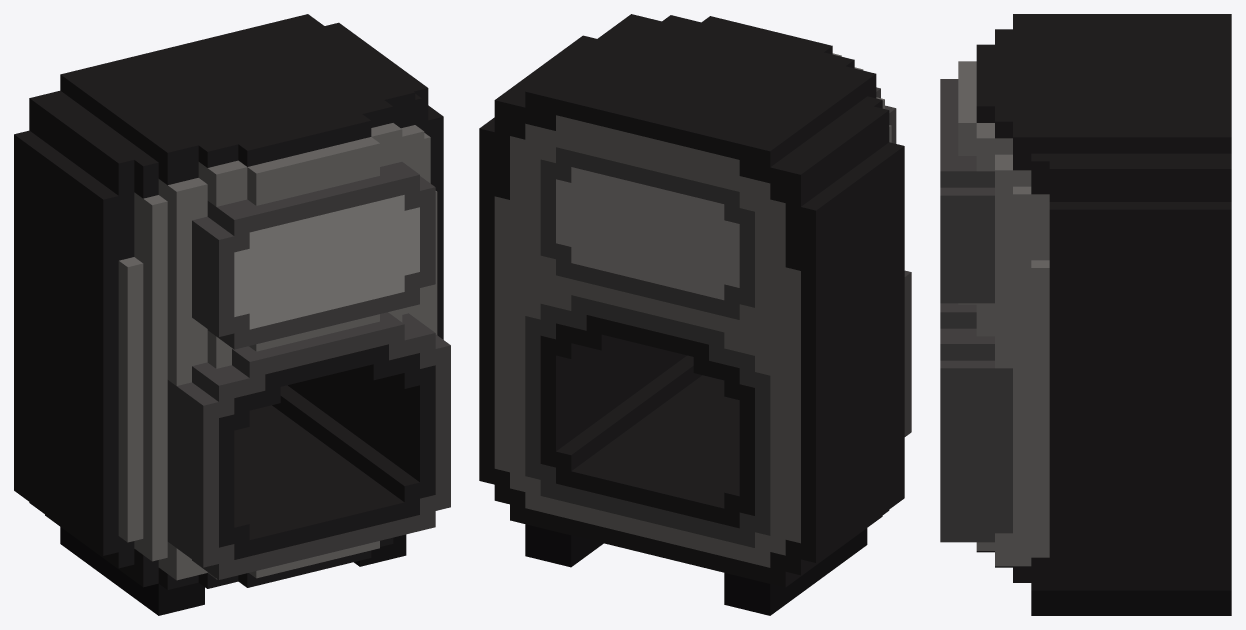
Rendered from boiler.glb.
3 renders of one model, left to right at view 1: azimuth 30°, elevation 25°; view 2: azimuth 150°, elevation 25°; view 3: azimuth 270°, elevation 25°, orthographic. The views are drawn at different scales.
Visible parts, largest first — view 1: generated(Clone); view 2: generated(Clone); view 3: generated(Clone).
Boxes of the visible parts, x1,y1,x2,y2 form: generated(Clone): (14,14,450,615); generated(Clone): (479,14,911,615); generated(Clone): (940,14,1231,615).
Bounding box in the file's own units: 22 × 29 × 16.
1 material, 1 textured.
